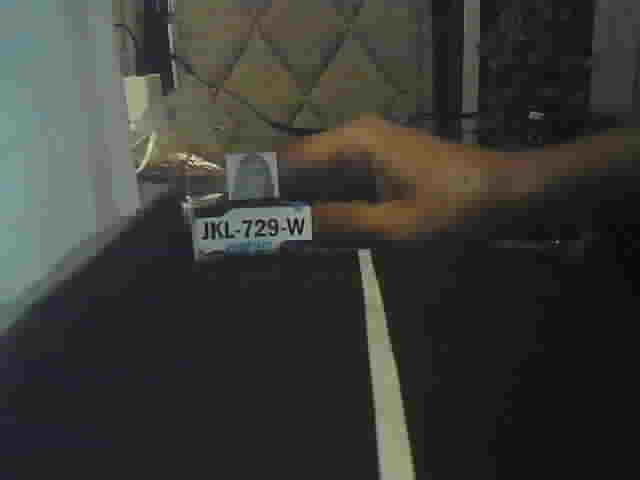PLACA: (192, 199, 315, 261)
ROSTRO: (229, 153, 277, 197)
